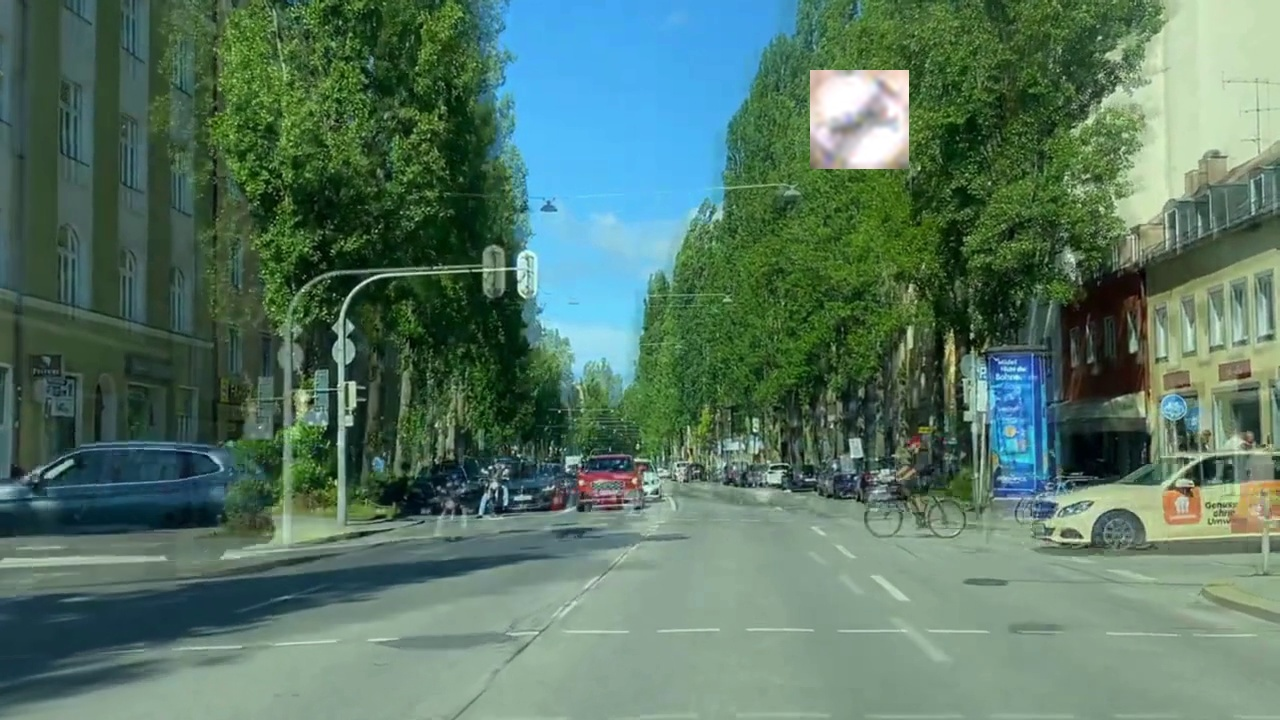End no pass: (810, 70, 909, 169)
